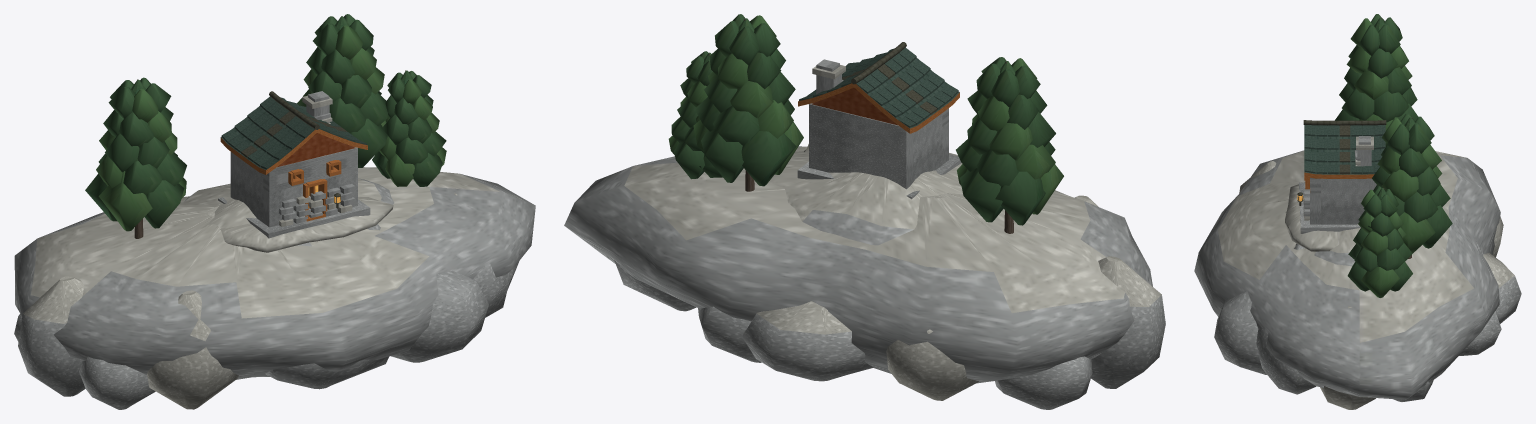
File: tahoe_emerald_isle_mid.glb
3 views of the same model, side by side, from view 1: azimuth 30°, elevation 25°; view 2: azimuth 150°, elevation 25°; view 3: azimuth 270°, elevation 25° (orthographic). The views are drawn at different scales.
Parts seen in each view (by area): view 1: tahoe_emerald_isle_mid; view 2: tahoe_emerald_isle_mid; view 3: tahoe_emerald_isle_mid.
Part boxes in pixels (x1,y1,x2,y2): tahoe_emerald_isle_mid: [14, 14, 535, 409]; tahoe_emerald_isle_mid: [564, 14, 1165, 409]; tahoe_emerald_isle_mid: [1194, 14, 1521, 409].
Size of the model in its own units: 26 by 14 by 16.
2 materials, 2 textured.
